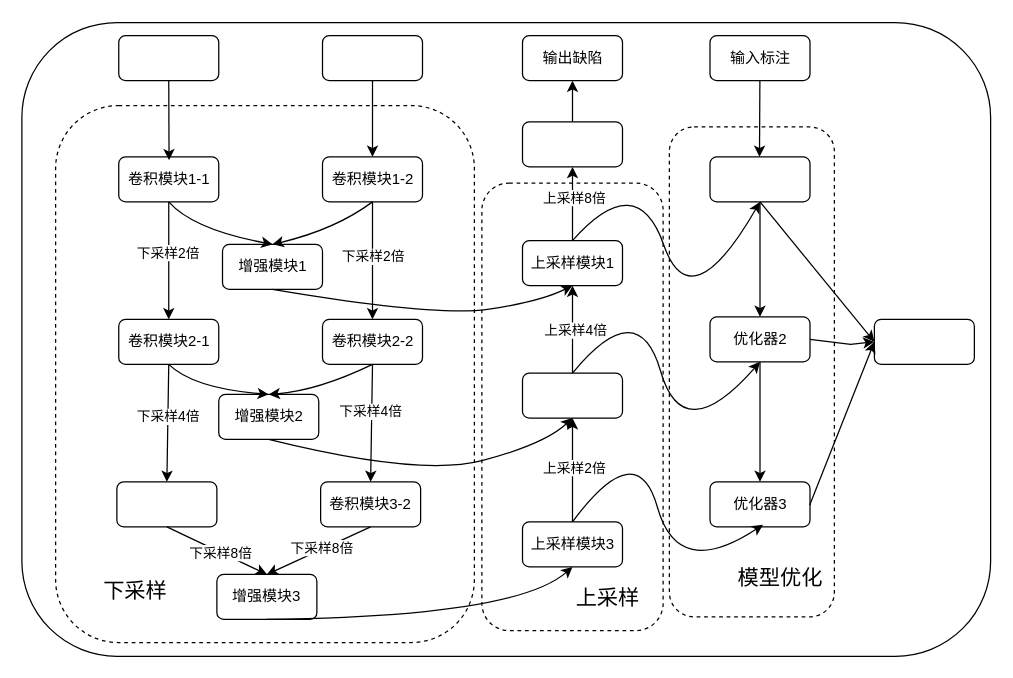
Image size: 1013x678. Some labels were removed from this diagram. Each missing label, with the centre of its shape:
"softmax" belongs at (571,144).
"上采样模块2" belongs at (571,395).
"优化器1" belongs at (759,179).
"卷积模块3-1" belongs at (166,504).
"输入待检图" belongs at (371,57).
"输入模板图" belongs at (168,57).
"输出模型" belongs at (923,341).
